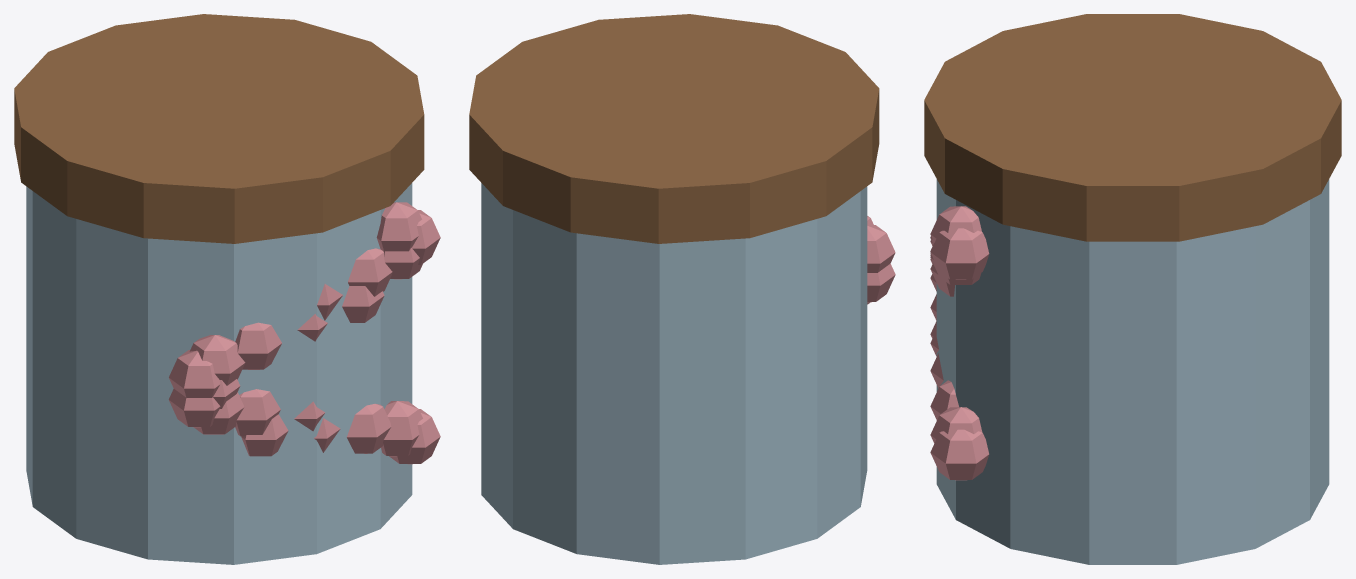
Rendered from bait-worm.glb.
The picture shows the model from 3 angles, left to right: view 1: azimuth 30°, elevation 25°; view 2: azimuth 150°, elevation 25°; view 3: azimuth 270°, elevation 25°; orthographic projection.
Parts seen in each view (by area): view 1: bait-worm; view 2: bait-worm; view 3: bait-worm.
Boxes of the visible parts, box(x1,y1,x2,y2) form: bait-worm: box(14, 14, 440, 564); bait-worm: box(469, 14, 895, 564); bait-worm: box(924, 14, 1341, 564).
Bounding box in the file's own units: 0.663 × 0.69 × 0.68.
